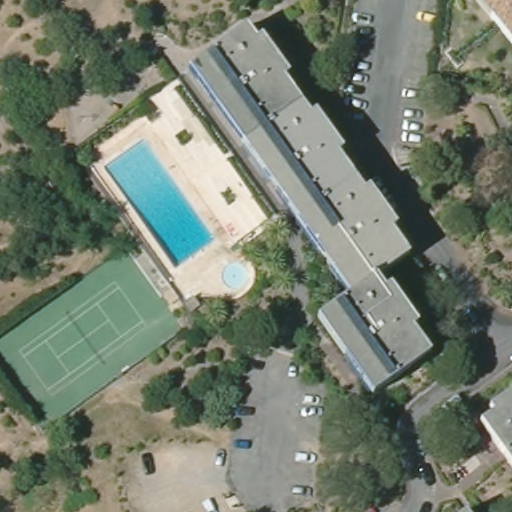pool: (104, 140, 214, 264), (221, 261, 254, 290)
